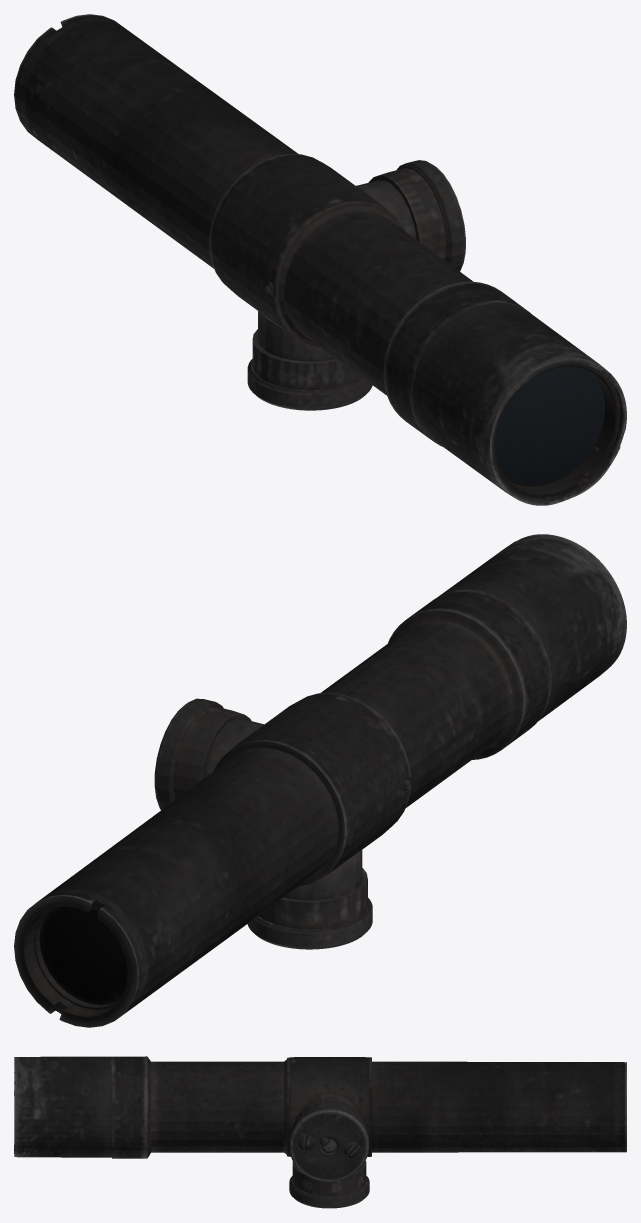
3 renders of one model, top to bottom at view 1: azimuth 30°, elevation 25°; view 2: azimuth 150°, elevation 25°; view 3: azimuth 270°, elevation 25°, orthographic. The views are drawn at different scales.
Parts seen in each view (by area): view 1: TW_5b3f7c1c5acfc40dc5296b1d_PZ_Import; view 2: TW_5b3f7c1c5acfc40dc5296b1d_PZ_Import; view 3: TW_5b3f7c1c5acfc40dc5296b1d_PZ_Import.
Boxes of the visible parts, bbox=[...] form: TW_5b3f7c1c5acfc40dc5296b1d_PZ_Import: bbox=[14, 14, 626, 505]; TW_5b3f7c1c5acfc40dc5296b1d_PZ_Import: bbox=[14, 534, 626, 1027]; TW_5b3f7c1c5acfc40dc5296b1d_PZ_Import: bbox=[14, 1056, 626, 1208].
Size of the model in its own units: 0.0244 by 0.1025 by 0.0245.
Materials: 1 (1 with a texture image).
